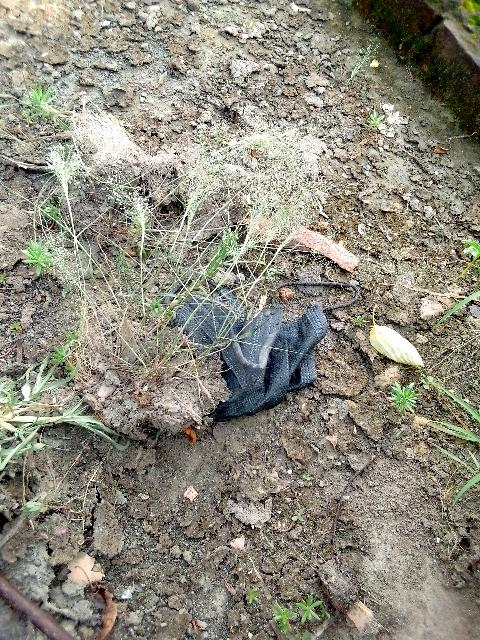mask: (215, 289, 328, 403)
